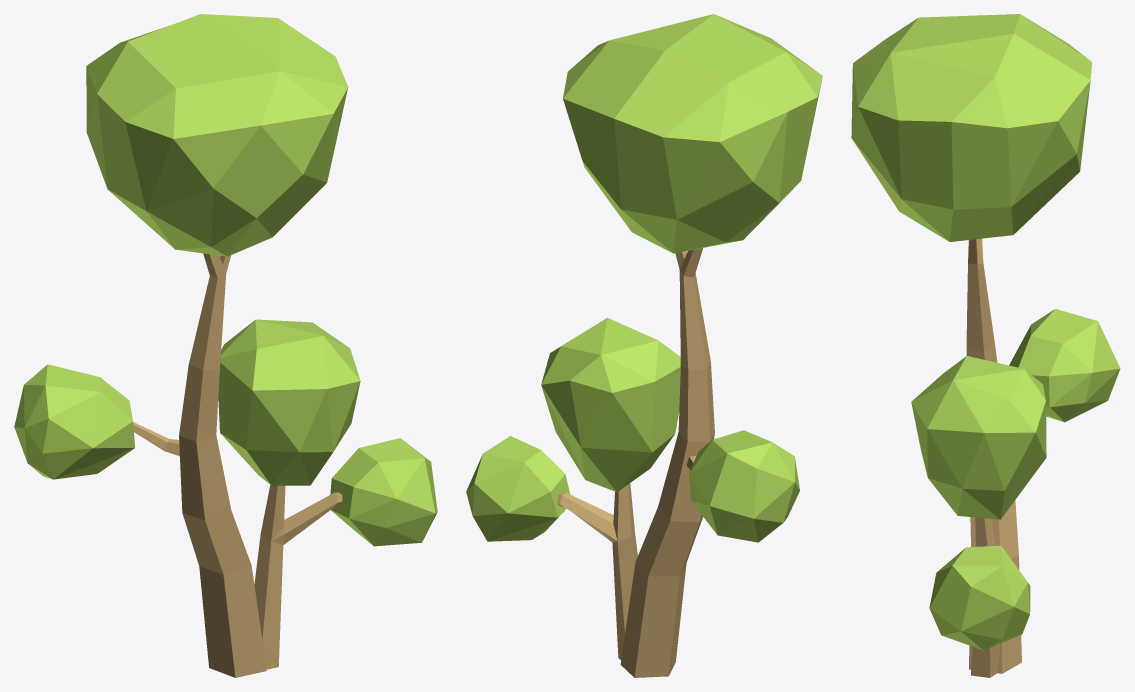
The model's file is Simple_Tree_m_04_LOD.fbx.
3 views of the same model, side by side, from view 1: azimuth 30°, elevation 25°; view 2: azimuth 150°, elevation 25°; view 3: azimuth 270°, elevation 25° (orthographic). The views are drawn at different scales.
Visible parts, largest first — view 1: Simple_Tree_m_04_LOD0; view 2: Simple_Tree_m_04_LOD0; view 3: Simple_Tree_m_04_LOD0.
Boxes of the visible parts, x1,y1,x2,y2 form: Simple_Tree_m_04_LOD0: [14, 14, 437, 677]; Simple_Tree_m_04_LOD0: [466, 14, 822, 677]; Simple_Tree_m_04_LOD0: [851, 14, 1120, 677].
Size of what is drawn, in the model's own units: 419 by 714 by 283.
